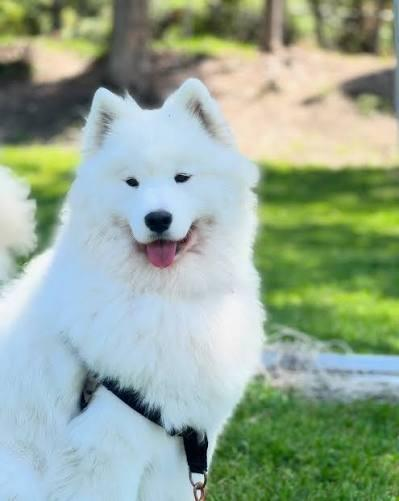adult_dog: (0, 74, 264, 501)
